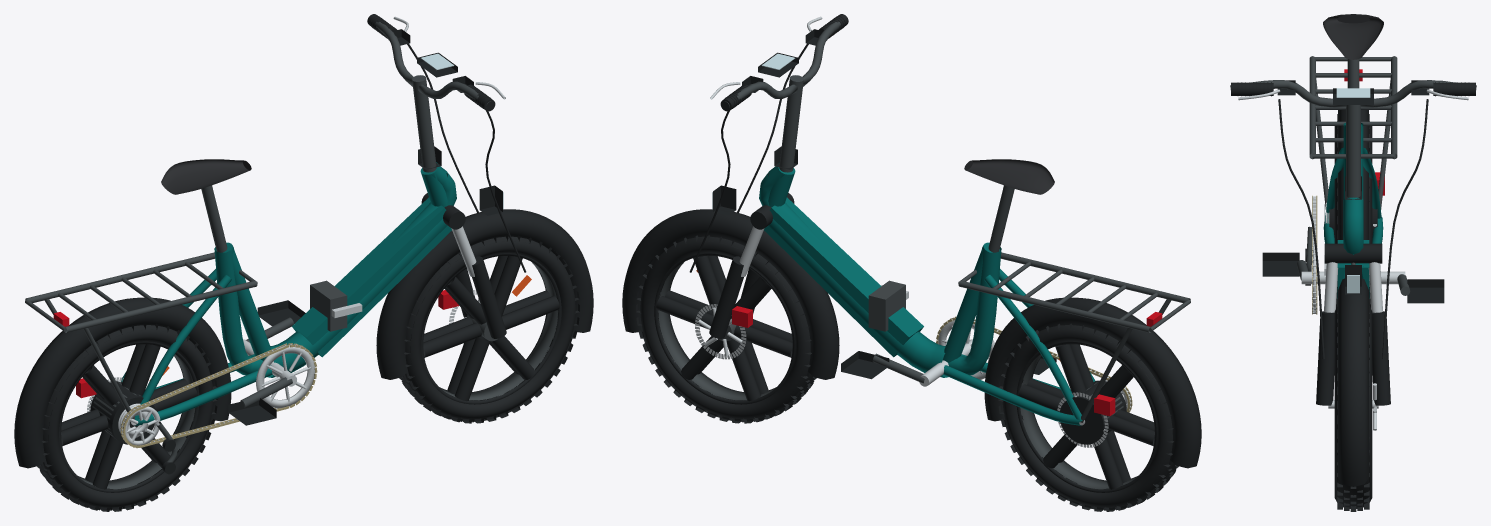
File: engwe-l20-2-0.glb
3 renders of one model, left to right at view 1: azimuth 30°, elevation 25°; view 2: azimuth 150°, elevation 25°; view 3: azimuth 270°, elevation 25°, orthographic. The views are drawn at different scales.
Visible parts, largest first — view 1: Bodywork | black, FrontWheel | rubber, FrontWheel | black, RearWheel | rubber, Chassis | teal, BatteryMount | teal, RearWheel | black, Bodywork | graphite, Drive | steel, Cockpit | graphite, Bodywork | seat, Chassis | graphite (+9 smaller); view 2: Bodywork | black, FrontWheel | rubber, RearWheel | rubber, Chassis | teal, BatteryMount | teal, FrontWheel | black, RearWheel | black, Bodywork | graphite, Cockpit | graphite, Chassis | graphite, Bodywork | seat, Fork | black (+8 smaller); view 3: Bodywork | black, Bodywork | graphite, Fork | black, Chassis | teal, Cockpit | graphite, Cockpit | rubber, FrontWheel | rubber, Bodywork | seat, Drive | black, Fork | steel, Cockpit | black, Drive | steel (+7 smaller).
Part boxes in pixels (x1,y1,x2,y2): Bodywork | black: (14, 185, 593, 468); FrontWheel | rubber: (399, 235, 579, 423); FrontWheel | black: (421, 253, 561, 404); RearWheel | rubber: (37, 323, 217, 511); Chassis | teal: (121, 162, 456, 425); BatteryMount | teal: (267, 197, 451, 377); RearWheel | black: (59, 341, 199, 492); Bodywork | graphite: (25, 252, 257, 419); Drive | steel: (118, 339, 315, 445); Cockpit | graphite: (375, 21, 490, 172); Bodywork | seat: (161, 159, 251, 194); Chassis | graphite: (201, 185, 347, 331); Bodywork | black: (622, 185, 1201, 468); FrontWheel | rubber: (636, 235, 816, 423); RearWheel | rubber: (998, 323, 1178, 511); Chassis | teal: (759, 162, 1095, 425); BatteryMount | teal: (764, 197, 948, 377); FrontWheel | black: (654, 253, 794, 404); RearWheel | black: (1016, 341, 1156, 492); Bodywork | graphite: (958, 252, 1190, 422); Cockpit | graphite: (725, 21, 840, 172); Chassis | graphite: (868, 185, 1014, 331); Bodywork | seat: (964, 159, 1054, 194); Fork | black: (709, 193, 794, 338); Bodywork | black: (1338, 110, 1368, 486); Bodywork | graphite: (1309, 56, 1397, 264); Fork | black: (1316, 243, 1390, 405); Chassis | teal: (1323, 123, 1383, 254); Cockpit | graphite: (1230, 80, 1476, 197); Cockpit | rubber: (1231, 82, 1475, 358); FrontWheel | rubber: (1334, 299, 1372, 511); Bodywork | seat: (1323, 14, 1383, 59); Drive | black: (1262, 248, 1444, 303); Fork | steel: (1324, 262, 1382, 312); Cockpit | black: (1237, 80, 1469, 199); Drive | steel: (1301, 196, 1405, 313).
Bounding box in the file's own units: 1.88 × 1.16 × 0.6634.
